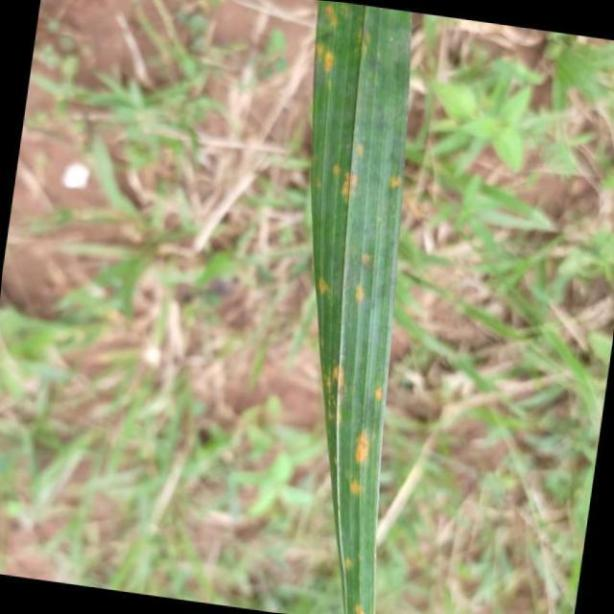Kalium: (308, 0, 413, 614)
